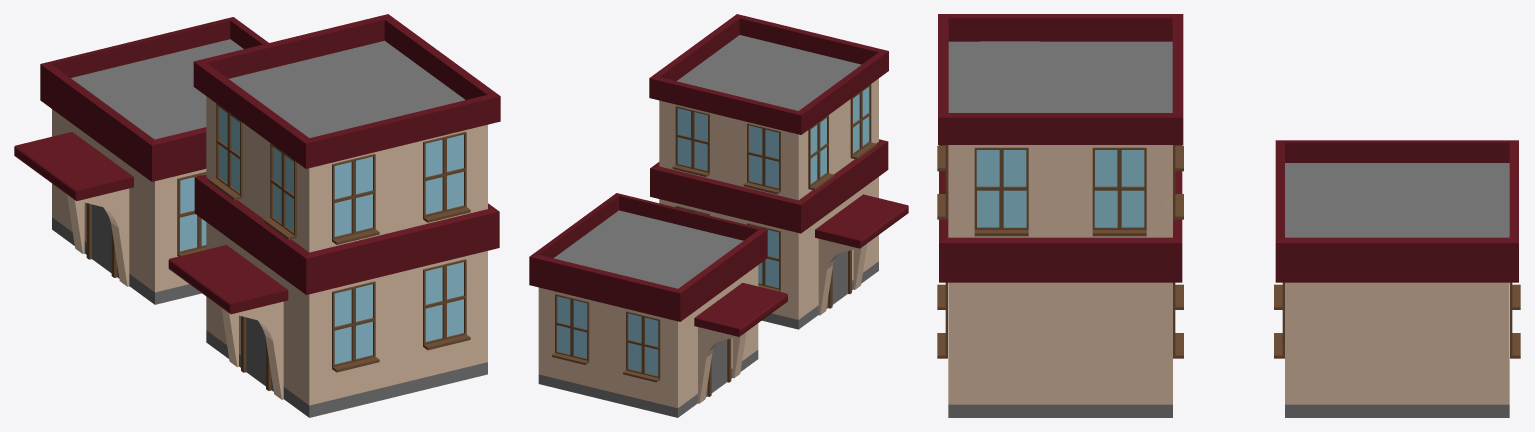
The model's file is builds_destroyable.fbx.
3 views of the same model, side by side, from view 1: azimuth 30°, elevation 25°; view 2: azimuth 150°, elevation 25°; view 3: azimuth 270°, elevation 25° (orthographic). The views are drawn at different scales.
Visible parts, largest first — view 1: HOUSE1, ENVIRONMENT1, HOUSE2, house 1_cell.038, house 1_cell.014, house 1_cell.002, house_!_1_cell.015, house 2_cell.002, house 1_cell.003, ENVIRONMENT2, house 1_cell.015, house_2_2_cell.001 (+38 smaller); view 2: HOUSE1, HOUSE2, ENVIRONMENT1, ENVIRONMENT2, house_2_2_cell.001, house 2_cell.010, house 1_cell.020, house_!_1_cell.015, house 2_cell.002, house 1_cell.029, house_2_2_cell.047, house 1_cell.038 (+11 smaller); view 3: HOUSE1, HOUSE2, ENVIRONMENT1, house 1_cell.010, house 1_cell.040, house 1_cell.038, house 1_cell.020, house 1_cell.029, house 2_cell.005, house 1_cell.014, house 2_cell.016_cell.016, house 1_cell.011 (+20 smaller).
Part boxes in pixels (x1,y1,x2,y2): HOUSE1: (193,28,500,417); ENVIRONMENT1: (168,104,470,399); HOUSE2: (40,17,259,304); house 1_cell.038: (279,14,418,76); house 1_cell.014: (393,262,487,387); house 1_cell.002: (347,175,442,281); house_!_1_cell.015: (169,248,288,314); house 2_cell.002: (85,94,195,245); house 1_cell.003: (306,121,402,220); ENVIRONMENT2: (14,136,206,286); house 1_cell.015: (327,344,434,413); house_2_2_cell.001: (19,134,133,193); HOUSE1: (649,14,888,329); HOUSE2: (529,193,767,417); ENVIRONMENT1: (672,85,908,315); ENVIRONMENT2: (552,294,779,403); house_2_2_cell.001: (713,282,787,328); house 2_cell.010: (588,304,683,401); house 1_cell.020: (754,84,839,174); house_!_1_cell.015: (843,194,908,246); house 2_cell.002: (657,248,758,305); house 1_cell.029: (806,64,871,107); house_2_2_cell.047: (715,284,787,335); house 1_cell.038: (649,58,737,97); HOUSE1: (938,14,1183,417); HOUSE2: (1275,140,1518,417); ENVIRONMENT1: (937,145,1183,358); house 1_cell.010: (960,282,1114,417); house 1_cell.040: (1036,129,1157,281); house 1_cell.038: (1100,59,1183,192); house 1_cell.020: (1057,14,1158,86); house 1_cell.029: (984,18,1076,64); house 2_cell.005: (1315,243,1401,417); house 1_cell.014: (948,296,993,417); house 2_cell.016_cell.016: (1469,292,1509,356); house 1_cell.011: (948,117,1078,211).
Bounding box in the file's own units: 553 × 599 × 1039.
